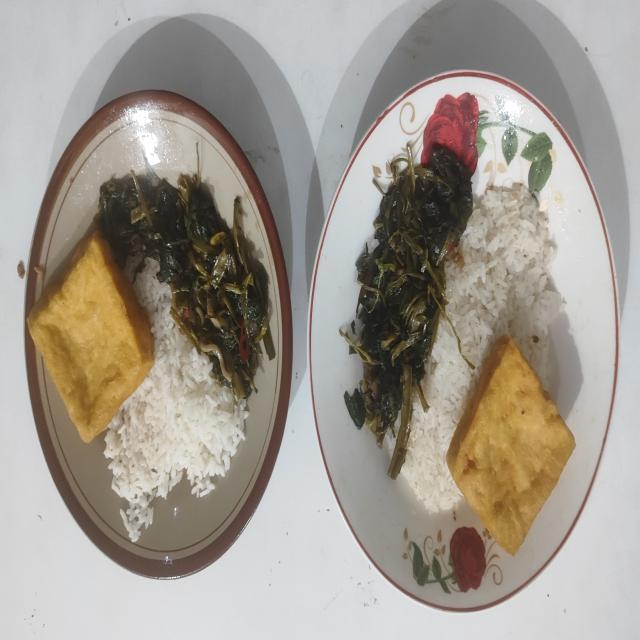nasi_putih: (103, 259, 250, 540), (446, 185, 564, 376), (400, 317, 480, 512)
tahu_goreng: (447, 336, 575, 555), (27, 230, 154, 442)
tumis_kangkung: (95, 150, 276, 400), (340, 143, 472, 480)
